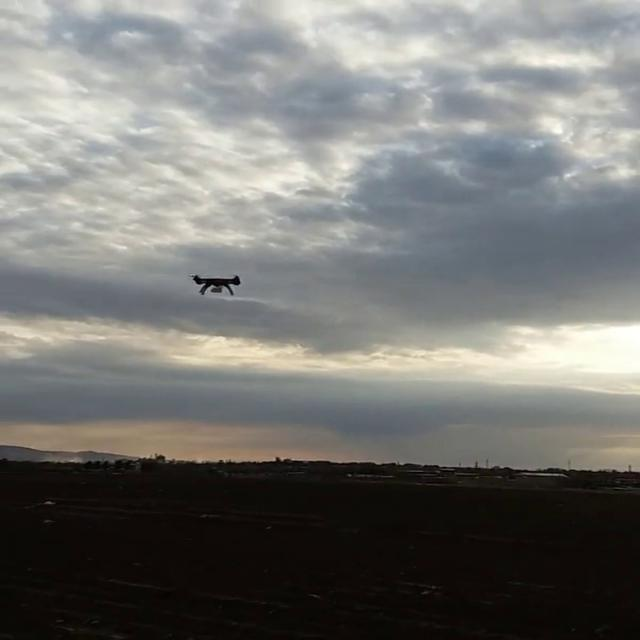drone: (184, 270, 246, 298)
